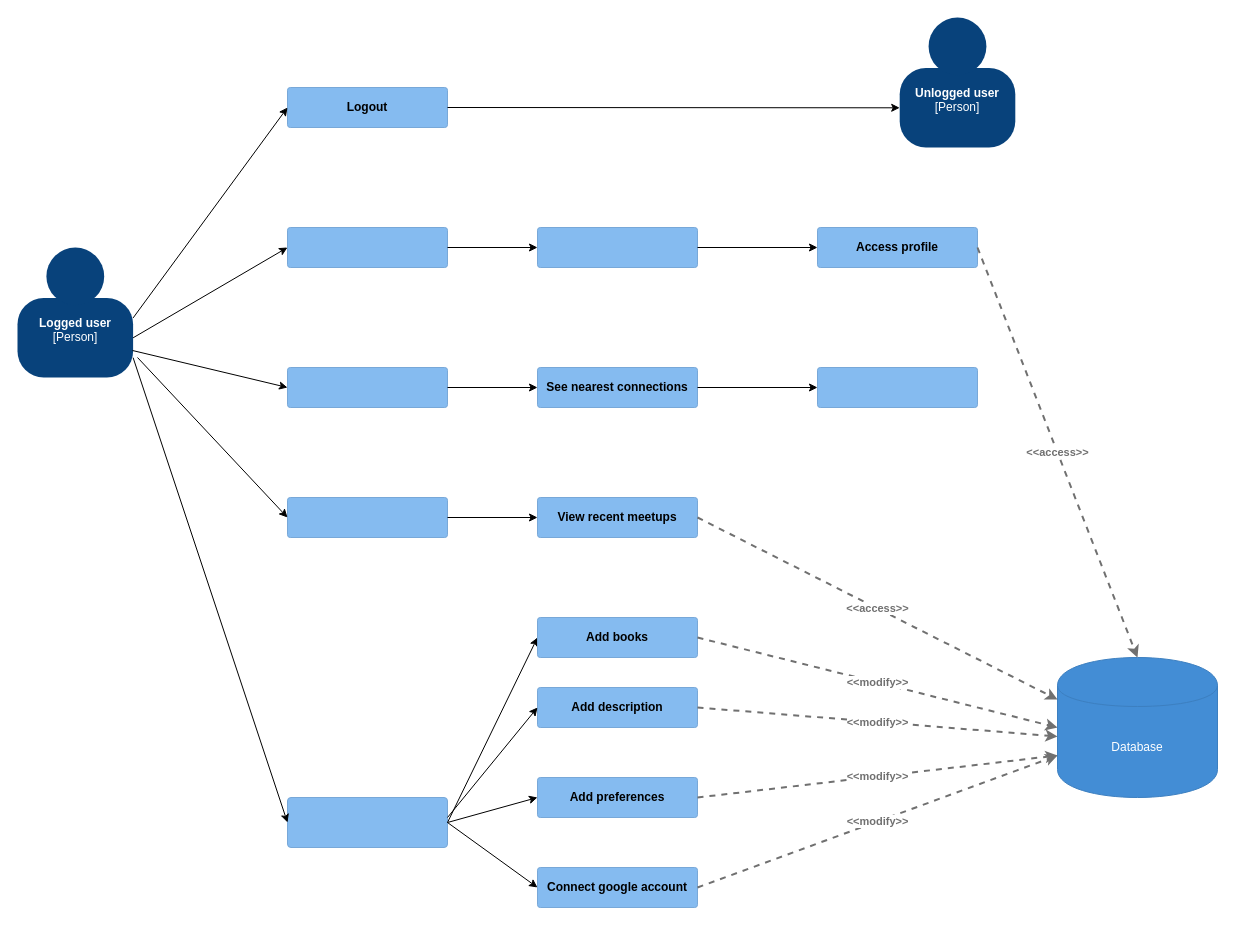
The diagram is 1235 pixels wide and 925 high, and some of its shapes have lost their labels. The shapes that lost their labels are listed below. From the top down, each one's centre as x and y in pixels, then its label:
At [367,247]: "Homepage".
At [617,247]: "View profiles".
At [367,387]: "Map page".
At [897,387]: "Send meetup request".
At [367,517]: "Notifications".
At [367,822]: "Account settings page".
